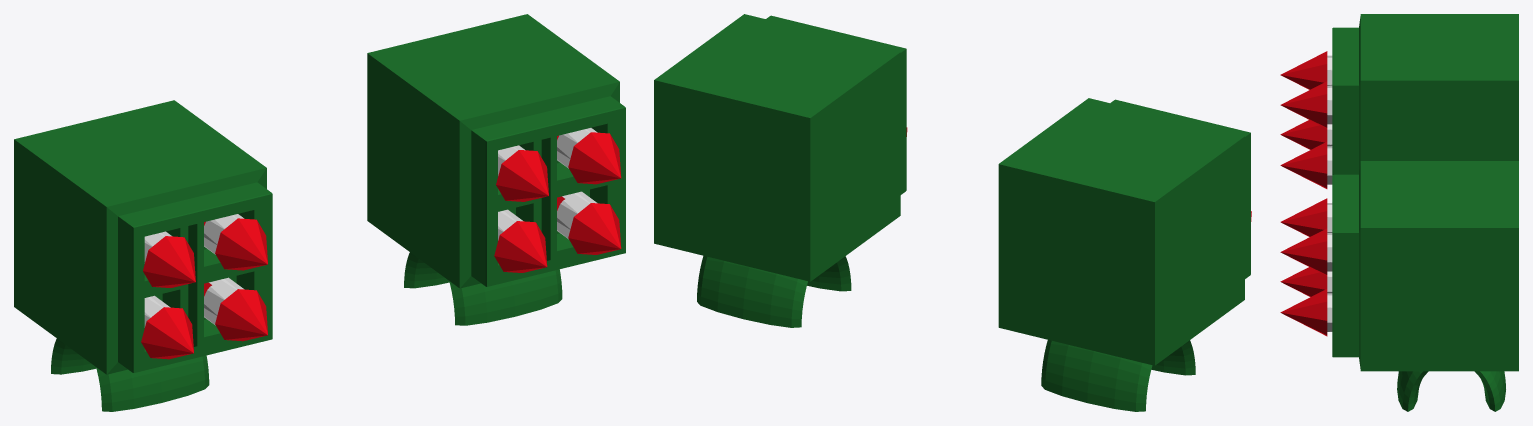
File: RocketLauncher.glb
The picture shows the model from 3 angles, left to right: view 1: azimuth 30°, elevation 25°; view 2: azimuth 150°, elevation 25°; view 3: azimuth 270°, elevation 25°; orthographic projection. The views are drawn at different scales.
Parts seen in each view (by area): view 1: Rcoket1.001; view 2: Rcoket1.001; view 3: Rcoket1.001.
Part boxes in pixels (left/top/right/bottom): Rcoket1.001: left=14, top=14, right=625, bottom=411; Rcoket1.001: left=654, top=14, right=1251, bottom=411; Rcoket1.001: left=1280, top=14, right=1518, bottom=411.
Size of the model in its own units: 1.6 by 0.6852 by 0.7542.
